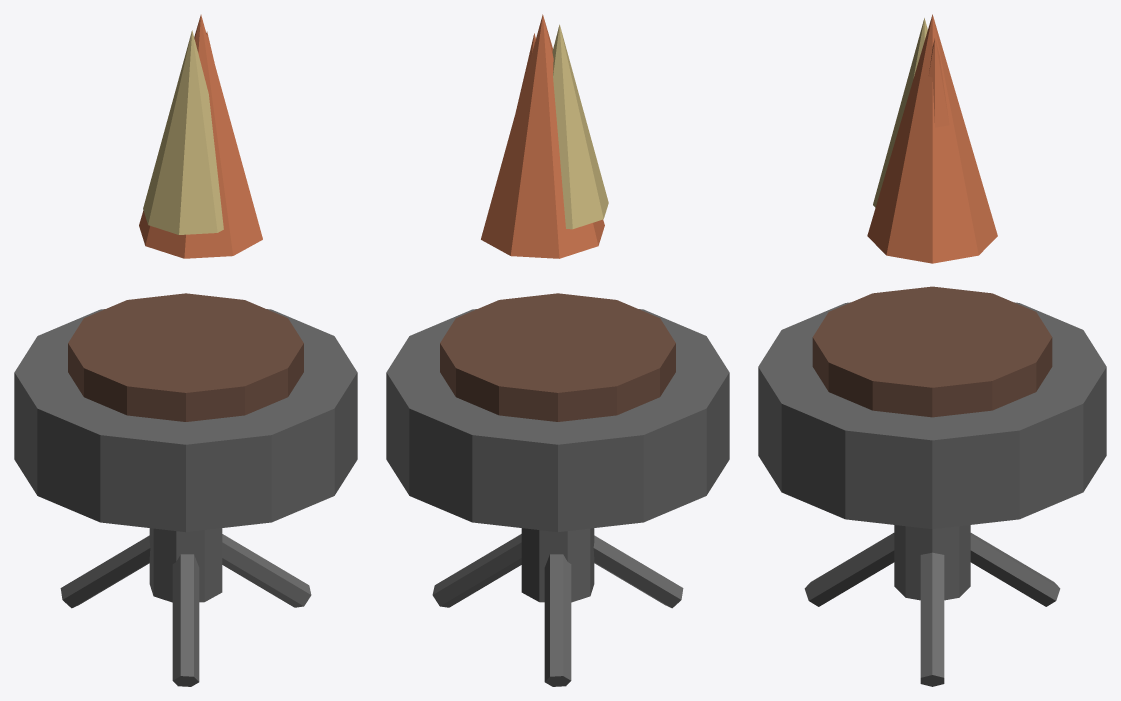
Rendered from brazier_fire_lowpoly.glb.
3 renders of one model, left to right at view 1: azimuth 30°, elevation 25°; view 2: azimuth 150°, elevation 25°; view 3: azimuth 270°, elevation 25°, orthographic.
Visible parts, largest first — view 1: brazier_bowl, brazier_coal, brazier_flame_1, brazier_flame_0, brazier_stem, brazier_leg_2, brazier_leg_0, brazier_leg_1; view 2: brazier_bowl, brazier_coal, brazier_flame_0, brazier_flame_1, brazier_stem, brazier_leg_1, brazier_leg_0, brazier_leg_2; view 3: brazier_bowl, brazier_coal, brazier_flame_0, brazier_stem, brazier_leg_0, brazier_leg_1, brazier_leg_2, brazier_flame_1, brazier_flame_2.
Boxes of the visible parts, x1,y1,x2,y2 form: brazier_bowl: (14, 309, 357, 532); brazier_coal: (68, 293, 303, 421); brazier_flame_1: (143, 30, 223, 234); brazier_flame_0: (139, 14, 262, 258); brazier_stem: (149, 528, 222, 602); brazier_leg_2: (172, 554, 199, 686); brazier_leg_0: (222, 534, 311, 607); brazier_leg_1: (60, 535, 150, 608); brazier_bowl: (386, 309, 729, 531); brazier_coal: (440, 293, 675, 421); brazier_flame_0: (481, 14, 604, 258); brazier_flame_1: (552, 24, 608, 229); brazier_stem: (521, 528, 594, 602); brazier_leg_1: (544, 554, 571, 686); brazier_leg_0: (432, 534, 521, 607); brazier_leg_2: (593, 535, 683, 608); brazier_bowl: (758, 302, 1106, 529); brazier_coal: (812, 286, 1052, 417); brazier_flame_0: (867, 14, 997, 263); brazier_stem: (894, 525, 970, 600); brazier_leg_0: (920, 552, 944, 686); brazier_leg_1: (970, 533, 1060, 606); brazier_leg_2: (804, 533, 894, 606); brazier_flame_1: (873, 18, 927, 207); brazier_flame_2: (928, 38, 949, 127).
Bounding box in the file's own units: 0.64 × 1.27 × 0.64.
